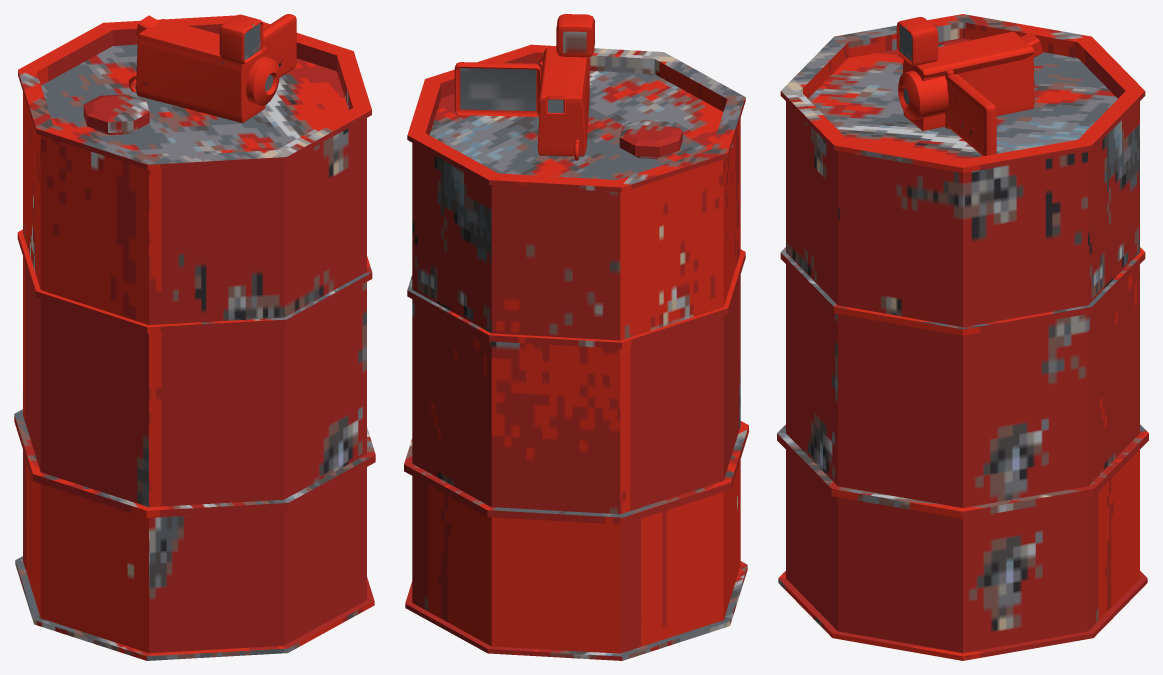
File: bockaredbarrelotsilkahihihihihmisamiekrytierazrabotchikio4ka.fbx
The picture shows the model from 3 angles, left to right: view 1: azimuth 30°, elevation 25°; view 2: azimuth 150°, elevation 25°; view 3: azimuth 270°, elevation 25°; orthographic projection. The views are drawn at different scales.
Parts seen in each view (by area): view 1: Barrel; view 2: Barrel; view 3: Barrel.
Part boxes in pixels (x1,y1,x2,y2): Barrel: [14, 14, 375, 660]; Barrel: [404, 14, 748, 660]; Barrel: [777, 14, 1148, 660].
Bounding box in the file's own units: 81.03 × 137 × 81.03.
